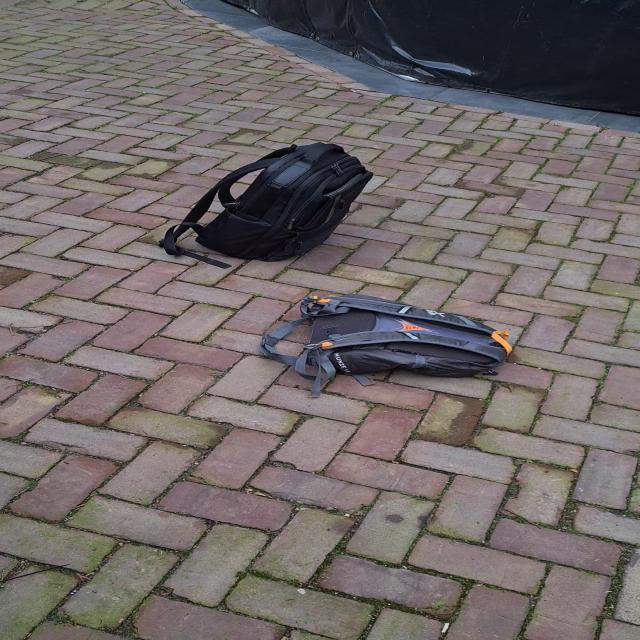backpack: (172, 142, 377, 267), (258, 296, 513, 387)
